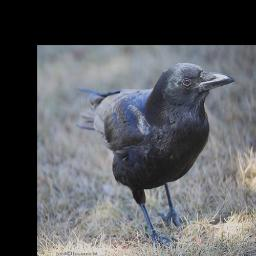Crow: (75, 61, 234, 246)
